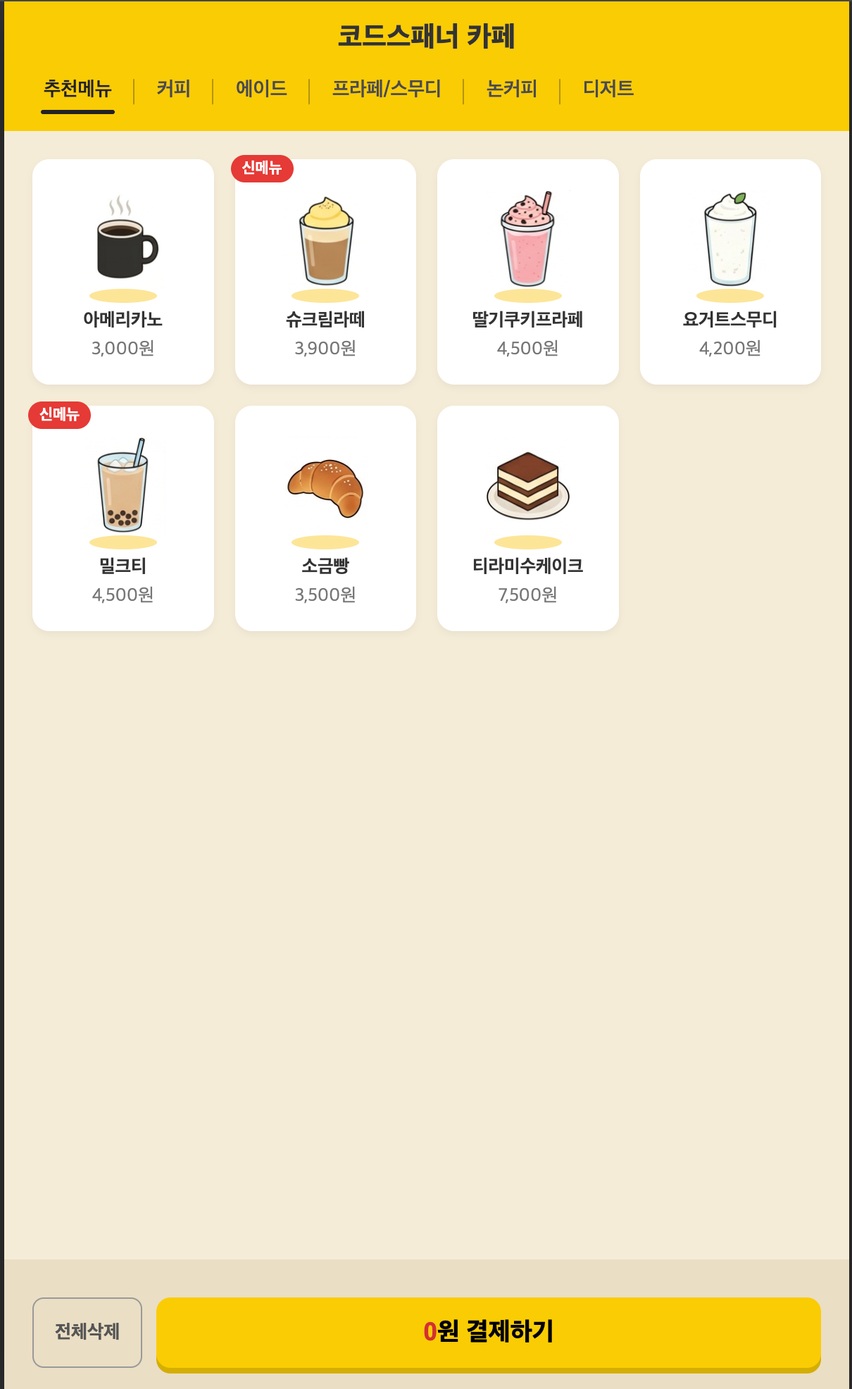action_button: (156, 1297, 821, 1374), (32, 1297, 142, 1368)
category_tab: (332, 78, 442, 99), (43, 78, 112, 99), (487, 78, 537, 99), (235, 79, 288, 98), (583, 79, 635, 98), (156, 79, 191, 99)
menu_back: (32, 405, 215, 632), (234, 406, 417, 632), (639, 158, 822, 384), (437, 159, 620, 385), (233, 159, 416, 385), (32, 159, 214, 385), (437, 404, 619, 630)
menu_name: (472, 310, 584, 329), (473, 557, 584, 575), (682, 311, 777, 329), (285, 309, 366, 329), (83, 310, 163, 328), (301, 557, 350, 575), (99, 557, 146, 575)
menu_price: (91, 339, 154, 357), (698, 339, 761, 357), (294, 339, 356, 357), (497, 339, 559, 357), (92, 586, 154, 604), (498, 586, 557, 604), (294, 586, 356, 603)
